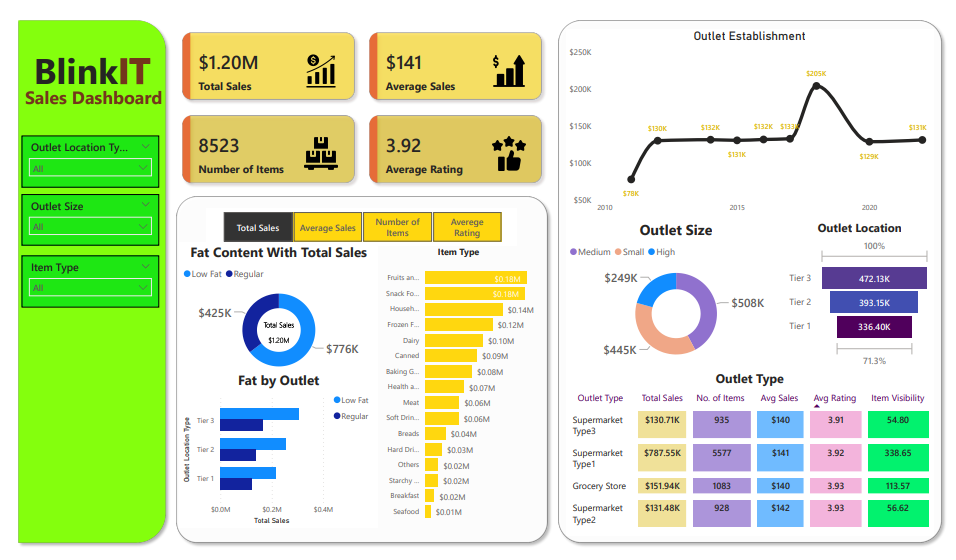

The page's visual inventory and layout, read from the dashboard file:
{"tool":"powerbi","page":{"name":"Page 1","canvas":[1400,800],"ordinal":0},"visuals":[{"type":"shape","box":[0,0,237.1,800],"z":0},{"type":"textbox","box":[25.7,40,250,117.1],"z":1000},{"type":"textbox","box":[12.9,98.6,237.1,82.9],"z":2000},{"type":"cardVisual","fields":{"Data":["BlinkIT Grocery Data.Total Sales","BlinkIT Grocery Data.Average Sales","BlinkIT Grocery Data.Number of Items","BlinkIT Grocery Data.Averege Rating"]},"box":[237.1,10,571.4,257.1],"z":3000},{"type":"shape","box":[237.1,264.3,571.4,535.7],"z":4000},{"type":"donutChart","title":"Fat Content With Total Sales","fields":{"Y":["BlinkIT Grocery Data.Total Sales"],"Category":["BlinkIT Grocery Data.Item Fat Content"]},"box":[250,341.4,297.1,207.1],"z":5000},{"type":"slicer","fields":{"Values":["matrics.matrics"]},"box":[290,288.6,465.7,57.1],"z":6000},{"type":"cardVisual","fields":{"Data":["BlinkIT Grocery Data.Total Sales"]},"box":[342.9,437.6,111.3,76.7],"z":7000},{"type":"clusteredBarChart","title":"Fat by Outlet","fields":{"Y":["BlinkIT Grocery Data.Total Sales"],"Category":["BlinkIT Grocery Data.Outlet Location Type"],"Series":["BlinkIT Grocery Data.Item Fat Content"]},"box":[250,532.9,297.1,235.7],"z":8000},{"type":"barChart","title":"Item Type","fields":{"Y":["BlinkIT Grocery Data.Total Sales"],"Category":["BlinkIT Grocery Data.Item Type"]},"box":[542.9,345.7,250,422.9],"z":9000},{"type":"shape","box":[808.6,0,591.4,800],"z":10000},{"type":"lineChart","title":"Outlet Establishment","fields":{"Y":["BlinkIT Grocery Data.Total Sales"],"Category":["BlinkIT Grocery Data.Outlet Establishment Year"]},"box":[828.6,21.4,551.4,285.7],"z":11000},{"type":"donutChart","title":"Outlet Size","fields":{"Y":["BlinkIT Grocery Data.Total Sales"],"Category":["BlinkIT Grocery Data.Outlet Size"]},"box":[828.6,307.1,330,225.7],"z":12000},{"type":"funnel","title":"Outlet Location","fields":{"Y":["Sum(BlinkIT Grocery Data.Sales)"],"Category":["BlinkIT Grocery Data.Outlet Location Type"]},"box":[1158.6,307.1,221.4,225.7],"z":13000},{"type":"pivotTable","title":"Outlet Type","fields":{"Rows":["BlinkIT Grocery Data.Outlet Type"],"Values":["BlinkIT Grocery Data.Total Sales","BlinkIT Grocery Data.Number of Items","BlinkIT Grocery Data.Average Sales","BlinkIT Grocery Data.Averege Rating","Sum(BlinkIT Grocery Data.Item Visibility)"]},"box":[828.6,532.9,551.4,248.6],"z":14000},{"type":"slicer","fields":{"Values":["BlinkIT Grocery Data.Outlet Location Type"]},"box":[12.9,181.4,205.7,77.1],"z":15000},{"type":"slicer","fields":{"Values":["BlinkIT Grocery Data.Outlet Size"]},"box":[12.9,268.6,205.7,77.1],"z":16000},{"type":"slicer","fields":{"Values":["BlinkIT Grocery Data.Item Type"]},"box":[12.9,361.4,205.7,77.1],"z":17000}]}

Visuals, with their boxes in screenshot pixels (x1, y1, x2, y2), scaled from the page's 1400x800 canvas onto the 956x560 screenshot:
shape: x1=0, y1=0, x2=162, y2=559
textbox: x1=18, y1=28, x2=188, y2=110
textbox: x1=9, y1=69, x2=171, y2=127
cardVisual - BlinkIT Grocery Data.Total Sales x BlinkIT Grocery Data.Average Sales: x1=162, y1=7, x2=552, y2=187
shape: x1=162, y1=185, x2=552, y2=559
"Fat Content With Total Sales" donutChart: x1=171, y1=239, x2=374, y2=384
slicer - matrics.matrics: x1=198, y1=202, x2=516, y2=242
cardVisual - BlinkIT Grocery Data.Total Sales: x1=234, y1=306, x2=310, y2=360
"Fat by Outlet" clusteredBarChart: x1=171, y1=373, x2=374, y2=538
"Item Type" barChart: x1=371, y1=242, x2=541, y2=538
shape: x1=552, y1=0, x2=955, y2=559
"Outlet Establishment" lineChart: x1=566, y1=15, x2=942, y2=215
"Outlet Size" donutChart: x1=566, y1=215, x2=791, y2=373
"Outlet Location" funnel: x1=791, y1=215, x2=942, y2=373
"Outlet Type" pivotTable: x1=566, y1=373, x2=942, y2=547
slicer - BlinkIT Grocery Data.Outlet Location Type: x1=9, y1=127, x2=149, y2=181
slicer - BlinkIT Grocery Data.Outlet Size: x1=9, y1=188, x2=149, y2=242
slicer - BlinkIT Grocery Data.Item Type: x1=9, y1=253, x2=149, y2=307
